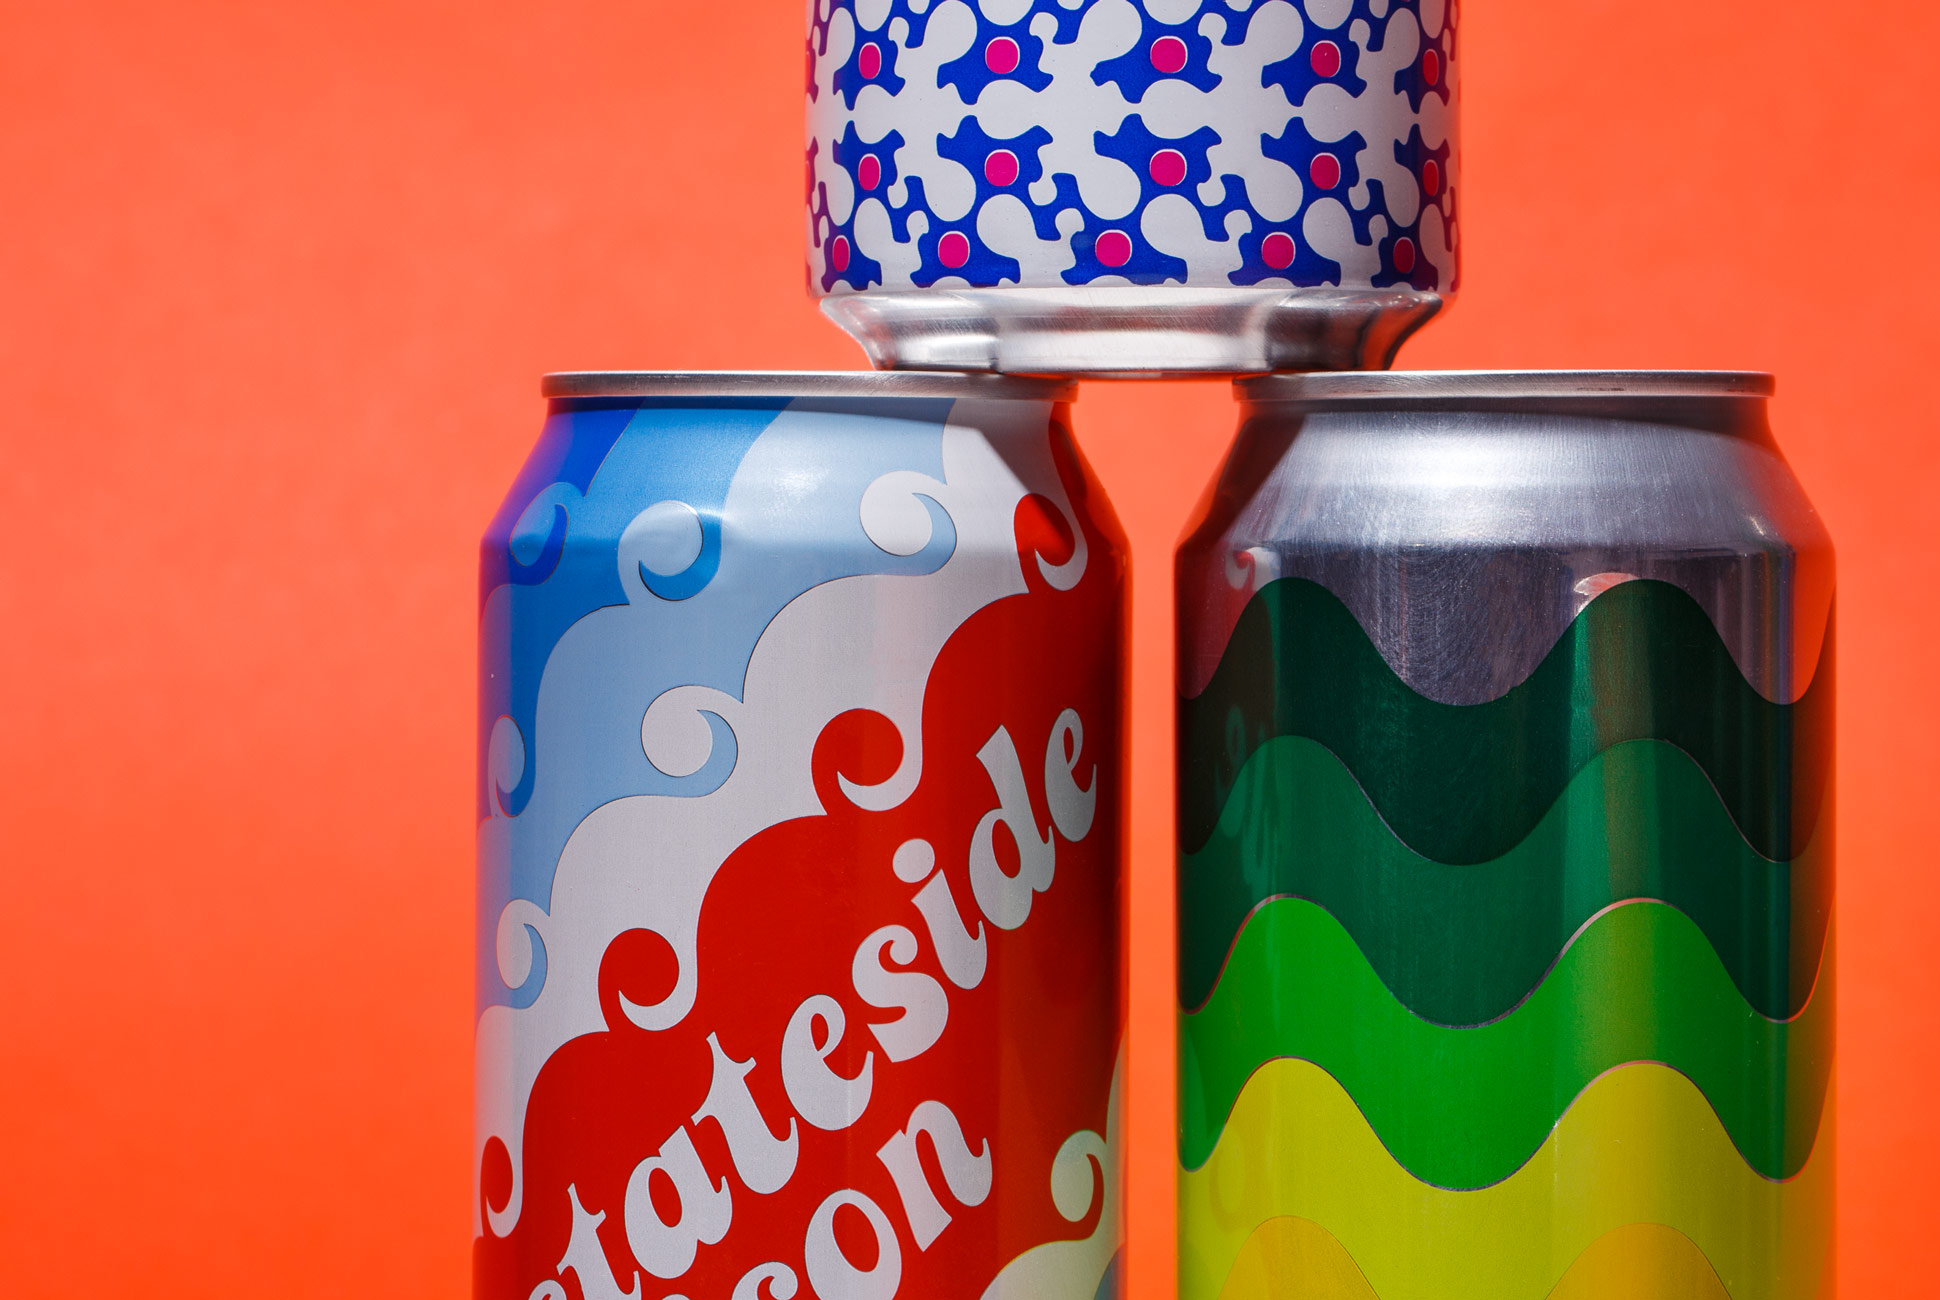beer can: (1170, 379, 1847, 1300), (476, 366, 1138, 1300), (802, 1, 1458, 371)
